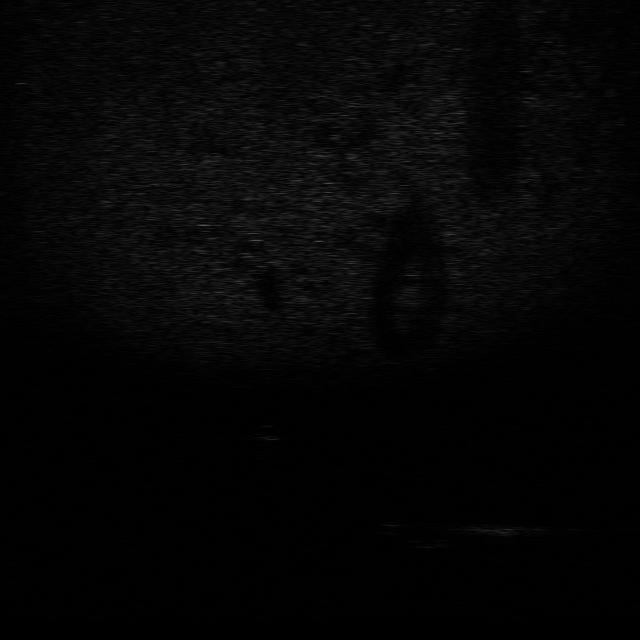ball: (250, 422, 285, 443)
metal bucket: (457, 518, 548, 543)
tyre: (375, 518, 455, 549)
